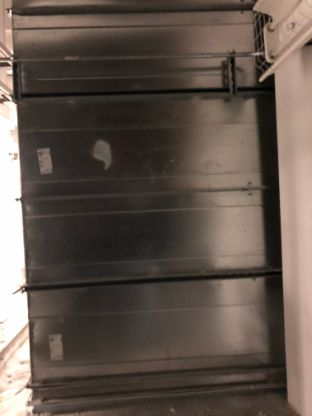Duct: (13, 1, 284, 416)
